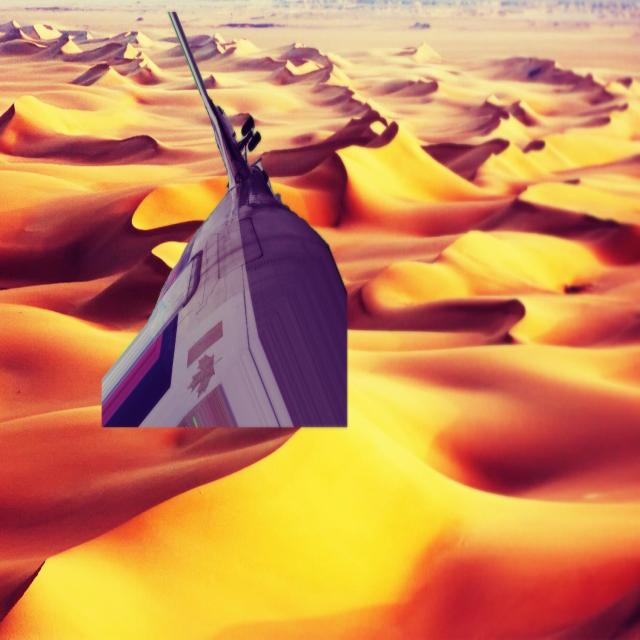airplane: (102, 12, 346, 426)
